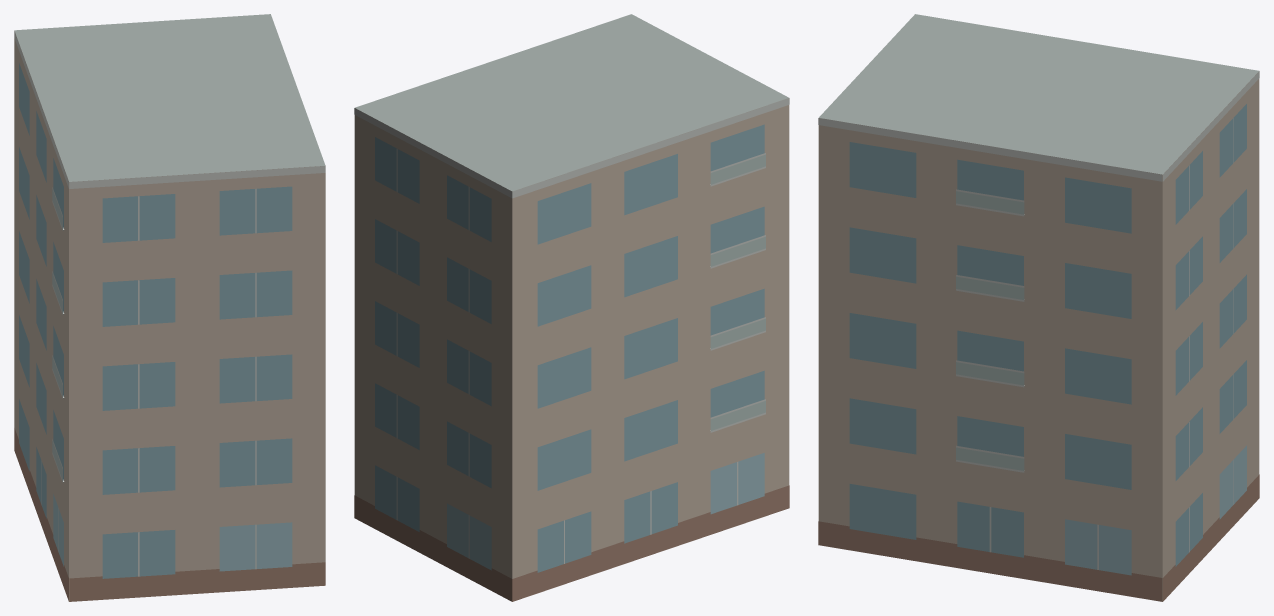
File: survey-upis-32878828.glb
The picture shows the model from 3 angles, left to right: view 1: azimuth 30°, elevation 25°; view 2: azimuth 150°, elevation 25°; view 3: azimuth 270°, elevation 25°; orthographic projection. The views are drawn at different scales.
Parts seen in each view (by area): view 1: survey-upis-32878828.tmp; view 2: survey-upis-32878828.tmp; view 3: survey-upis-32878828.tmp.
Part boxes in pixels (x1,y1,x2,y2): survey-upis-32878828.tmp: (14,14,325,601); survey-upis-32878828.tmp: (354,14,789,601); survey-upis-32878828.tmp: (818,14,1259,601).
Size of the model in its own units: 11.62 by 14.4 by 13.48.
